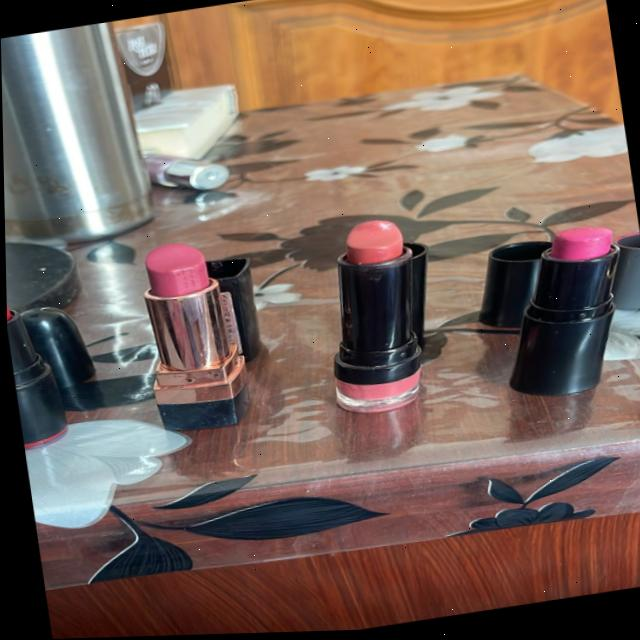lip stick: (290, 207, 473, 429), (463, 200, 640, 418), (106, 222, 275, 433), (5, 260, 65, 464)
